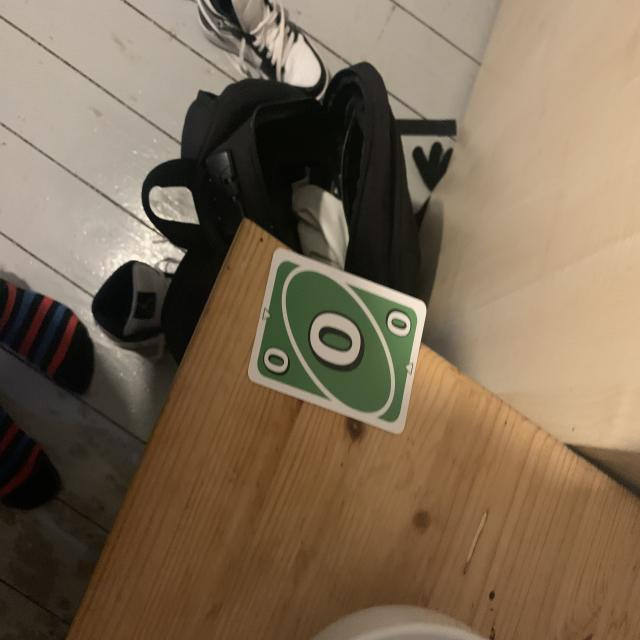lgreen-0: (256, 343, 296, 382)
